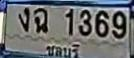1: (65, 8, 73, 34)
3: (78, 9, 91, 35)
6: (95, 10, 108, 36)
9: (111, 10, 125, 38)
A07: (18, 7, 29, 31)
A09: (33, 8, 47, 32)
CBI: (42, 41, 83, 58)
